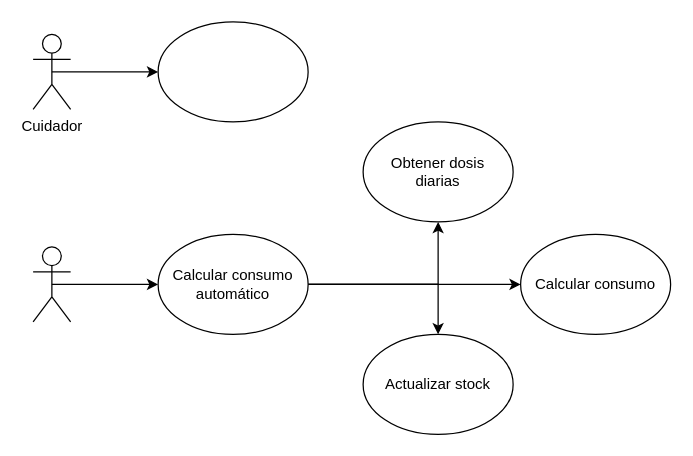
Some shapes in this 693 by 456 pixel diagram are drawn without their labels. The centre of each missing label's shape, as x and y in pixels:
"Registra dosis diarias" goes at (x=232, y=71).
"Sistema" goes at (x=51, y=284).
